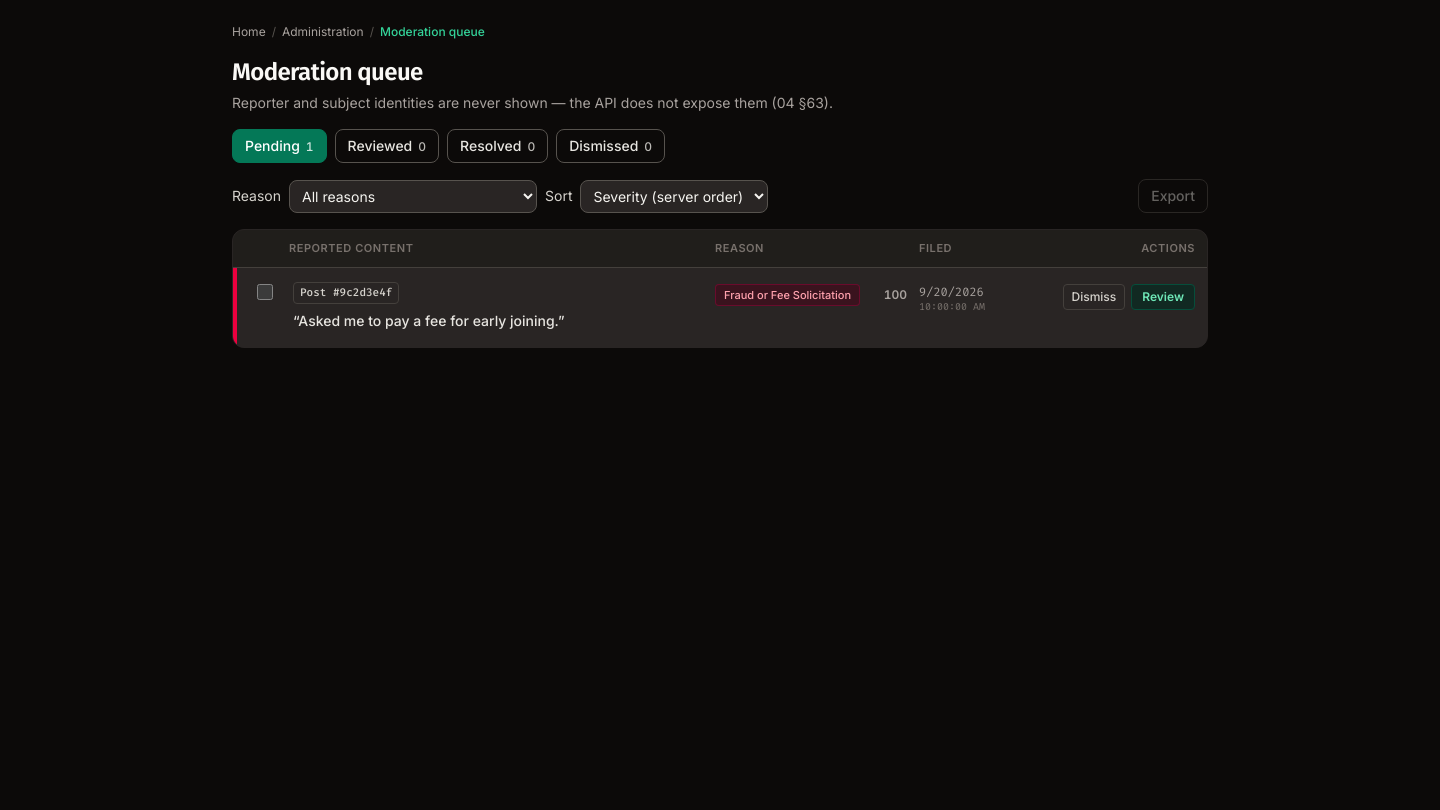
Test case: AdminReportsPage (9.5 Task 8) › surfaces a review failure without closing the dialog
The image size is (1440, 810).
Check: the element with test id "reports-list" is shown, box [232, 229, 1208, 348]
Click the button "Review".
click(1163, 296)  # box [1131, 284, 1195, 310]
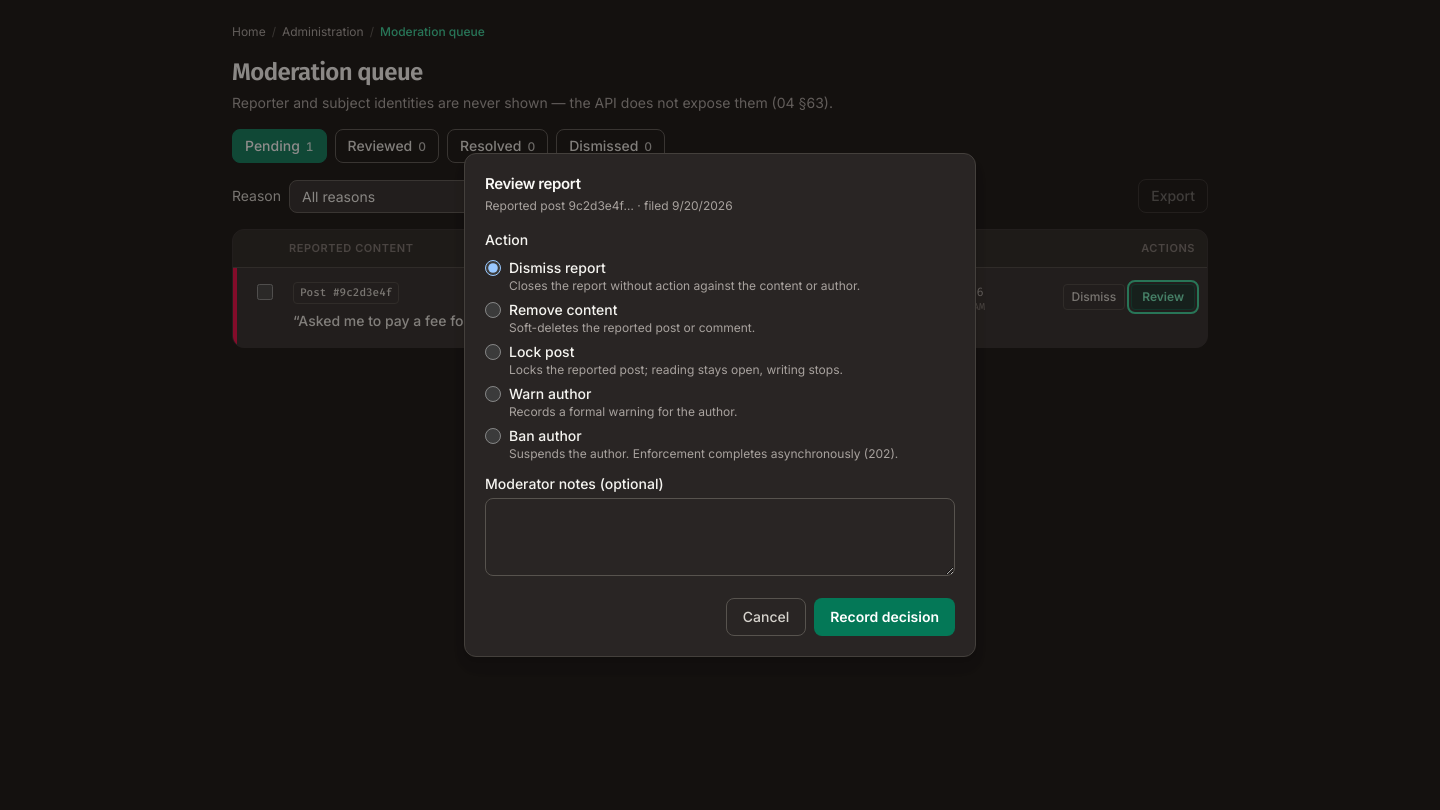
Click the button with test id "review-submit".
click(885, 617)  # box [814, 598, 955, 636]
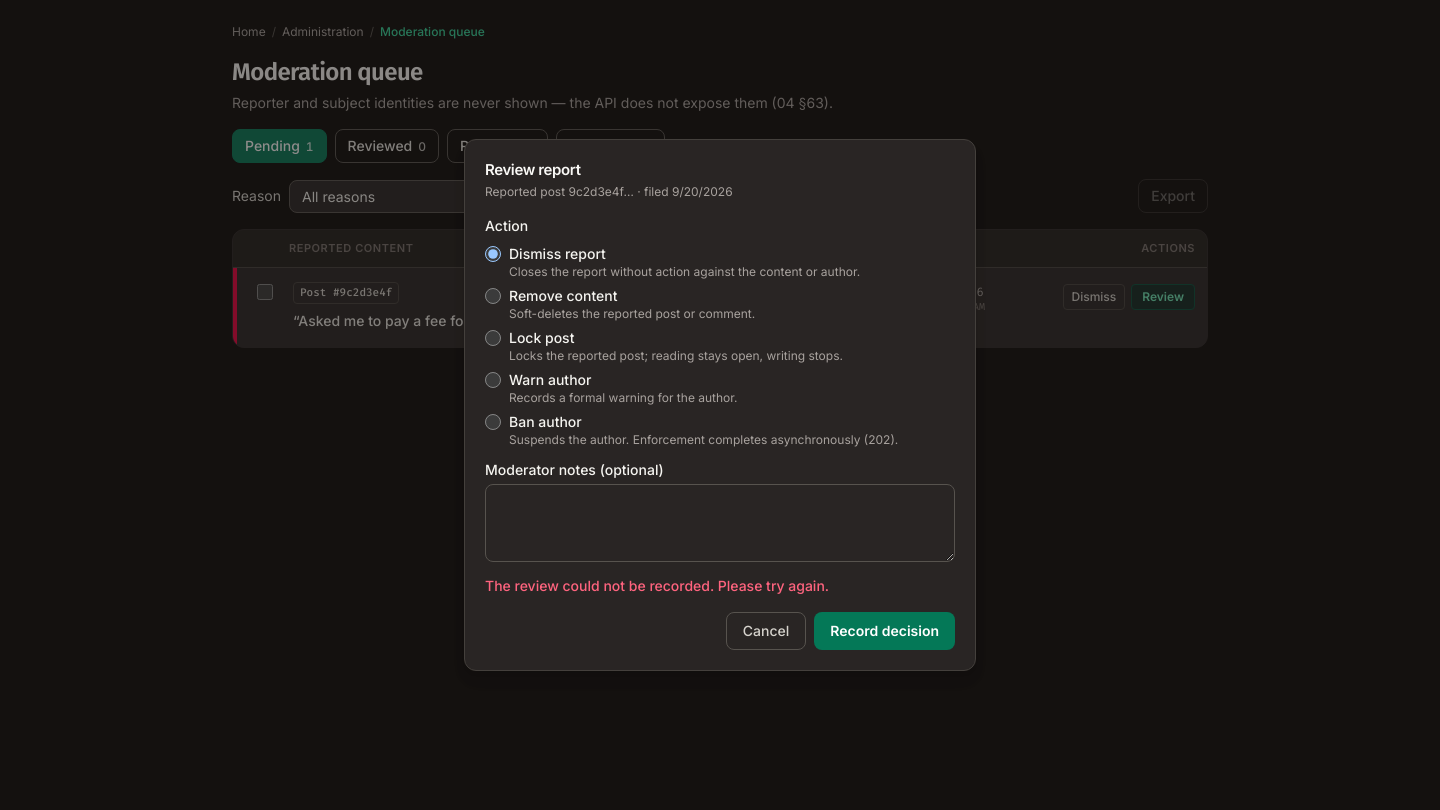
Check: the dialog with test id "review-dialog" is shown
Check: the message shows "could not be recorded", box [485, 577, 829, 594]
